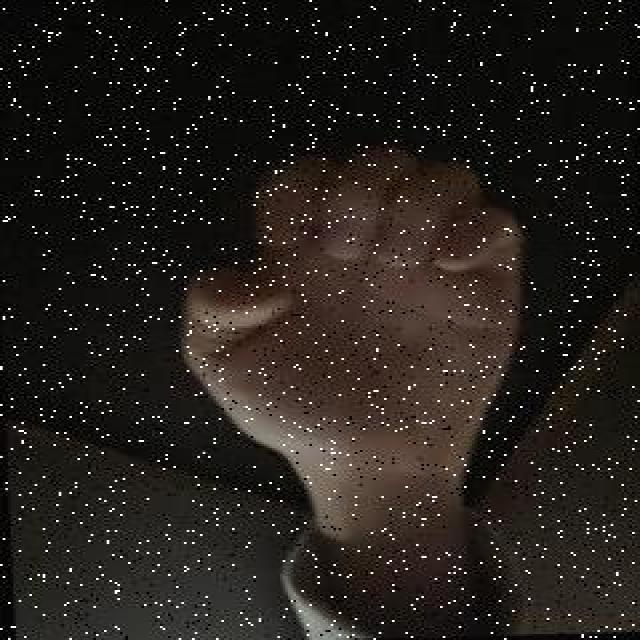E: (92, 107, 591, 587)
